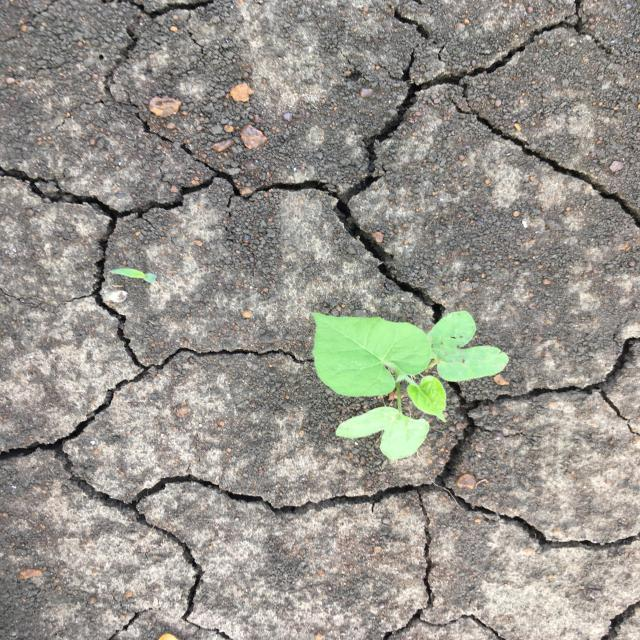MorningGlory: (306, 308, 512, 463)
